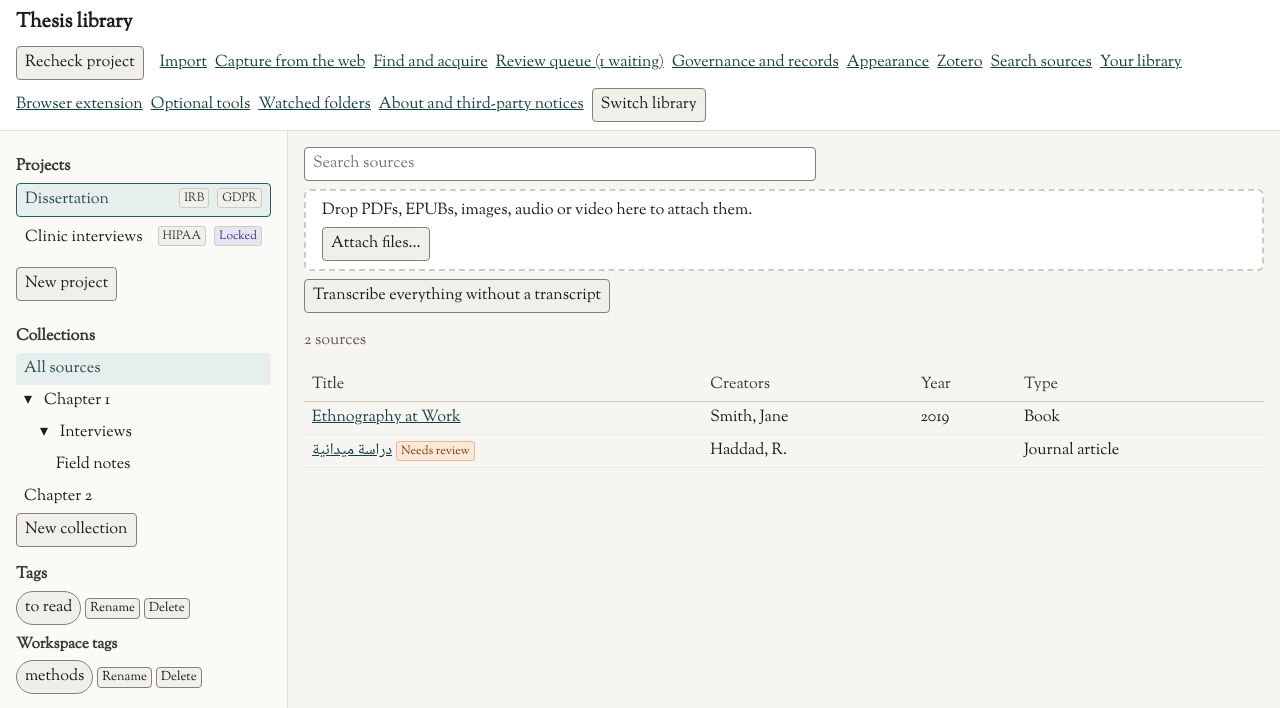
the app's one router (R118) › Appearance link opens the settings in place; Back to library returns without a reload
The width and height of the screenshot is (1280, 708).
Click the link "Appearance": {"x": 888, "y": 63} [847,51,929,75]
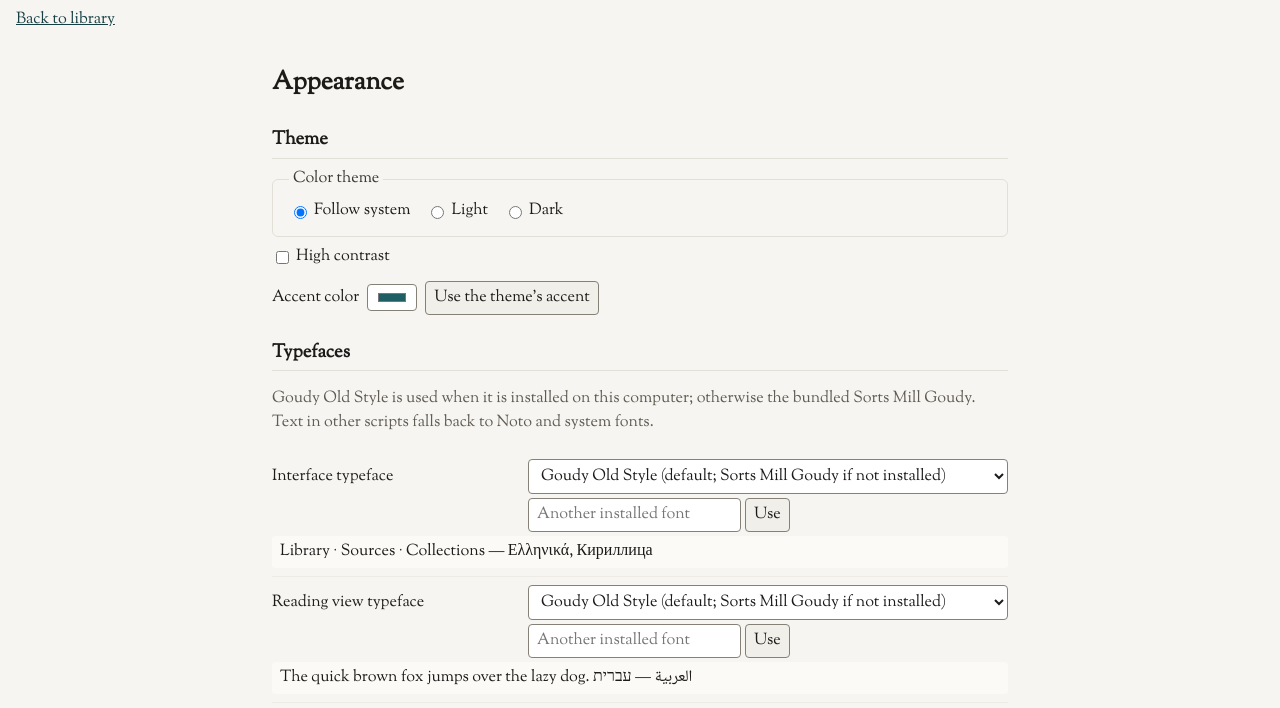
Expected: the heading "Appearance" is shown, [272,64,404,101]
Expected: the heading "Projects" is gone
Click the link "Back to library": {"x": 65, "y": 20} [16,8,115,31]
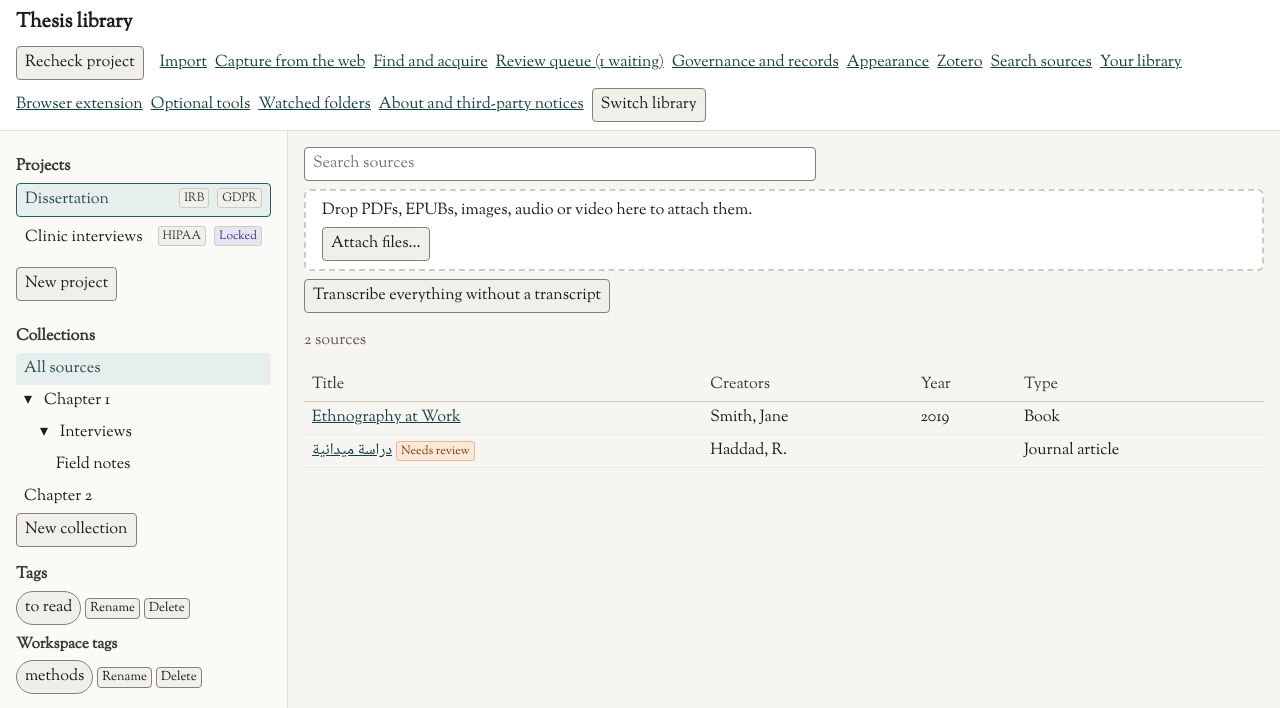
Expected: the navigation bar "Projects" is shown, [16,155,271,255]
